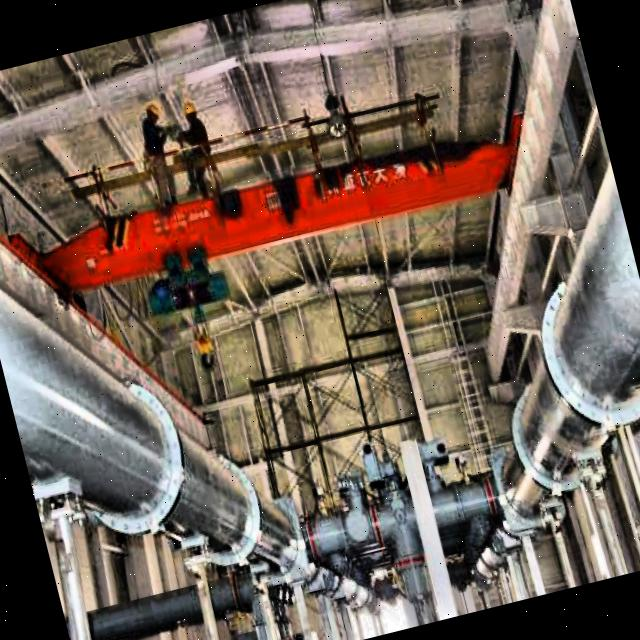helmet: (179, 96, 202, 130), (141, 96, 163, 126)
